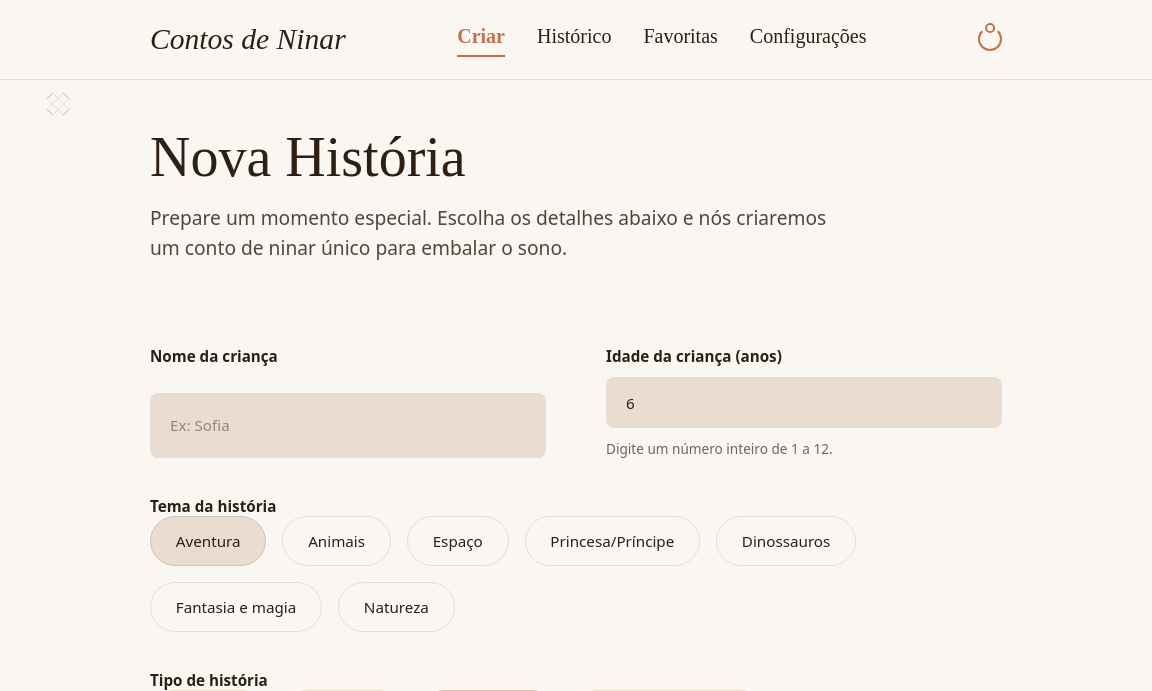
User settings › keeps the app usable and shows retryable feedback when settings cannot be saved
The width and height of the screenshot is (1152, 691).
Click the tab "Configurações": (808, 39) x1=750 y1=21 x2=866 y2=57
(page scrolled)
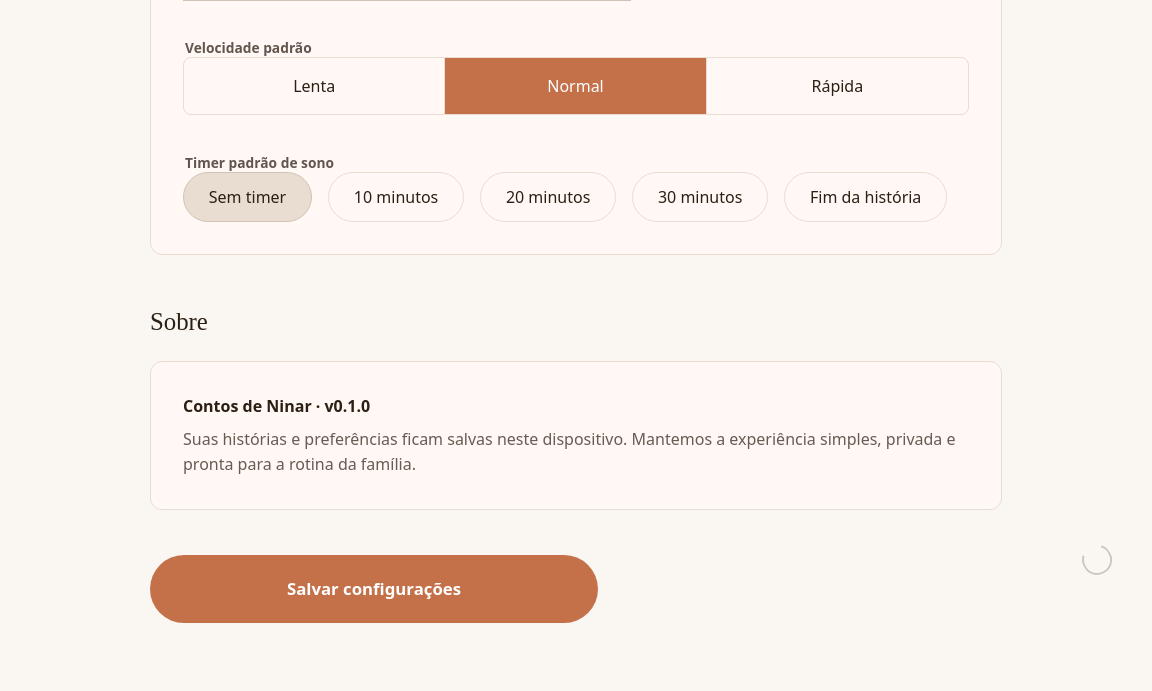
Click the button "Salvar configurações": (374, 589) x1=150 y1=555 x2=598 y2=623
(page scrolled)
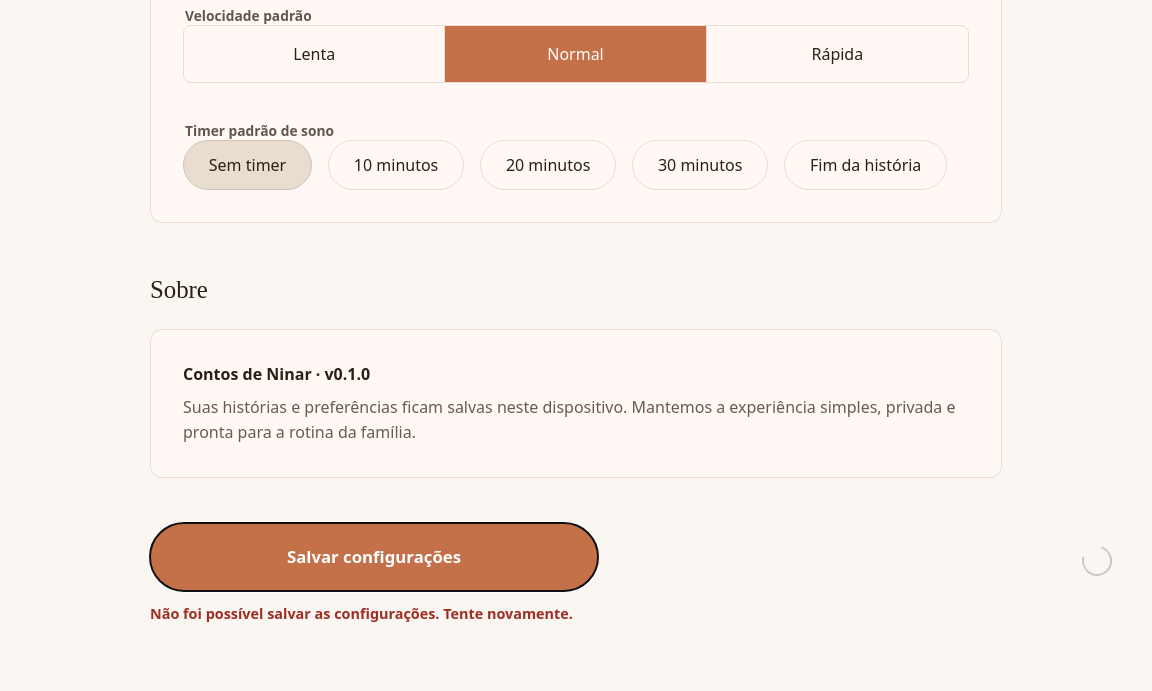
Check: the button "Salvar configurações" is enabled, box x1=150 y1=523 x2=598 y2=591
Check: the text "Não foi possível salvar as configurações. Tente novamente." is shown, box x1=150 y1=604 x2=573 y2=623
